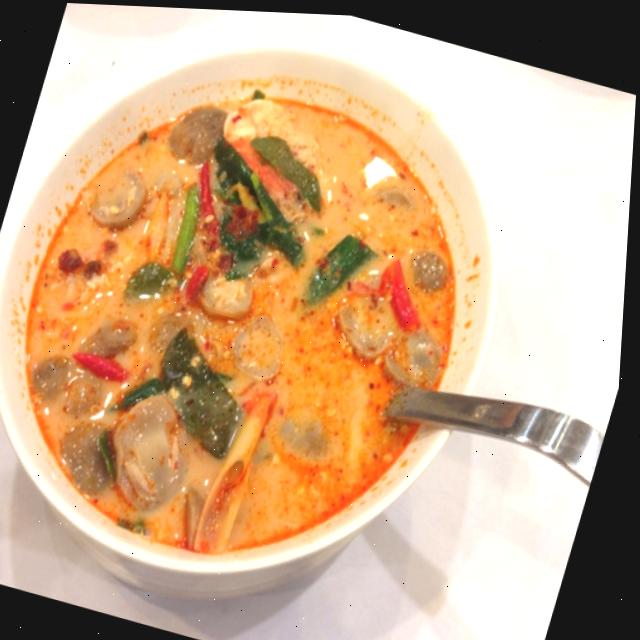汤锅炖物: (0, 56, 489, 587)
